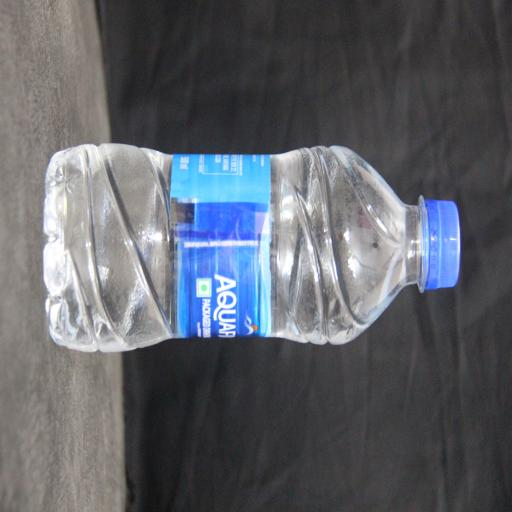Aquafina: (97, 77, 230, 512)
